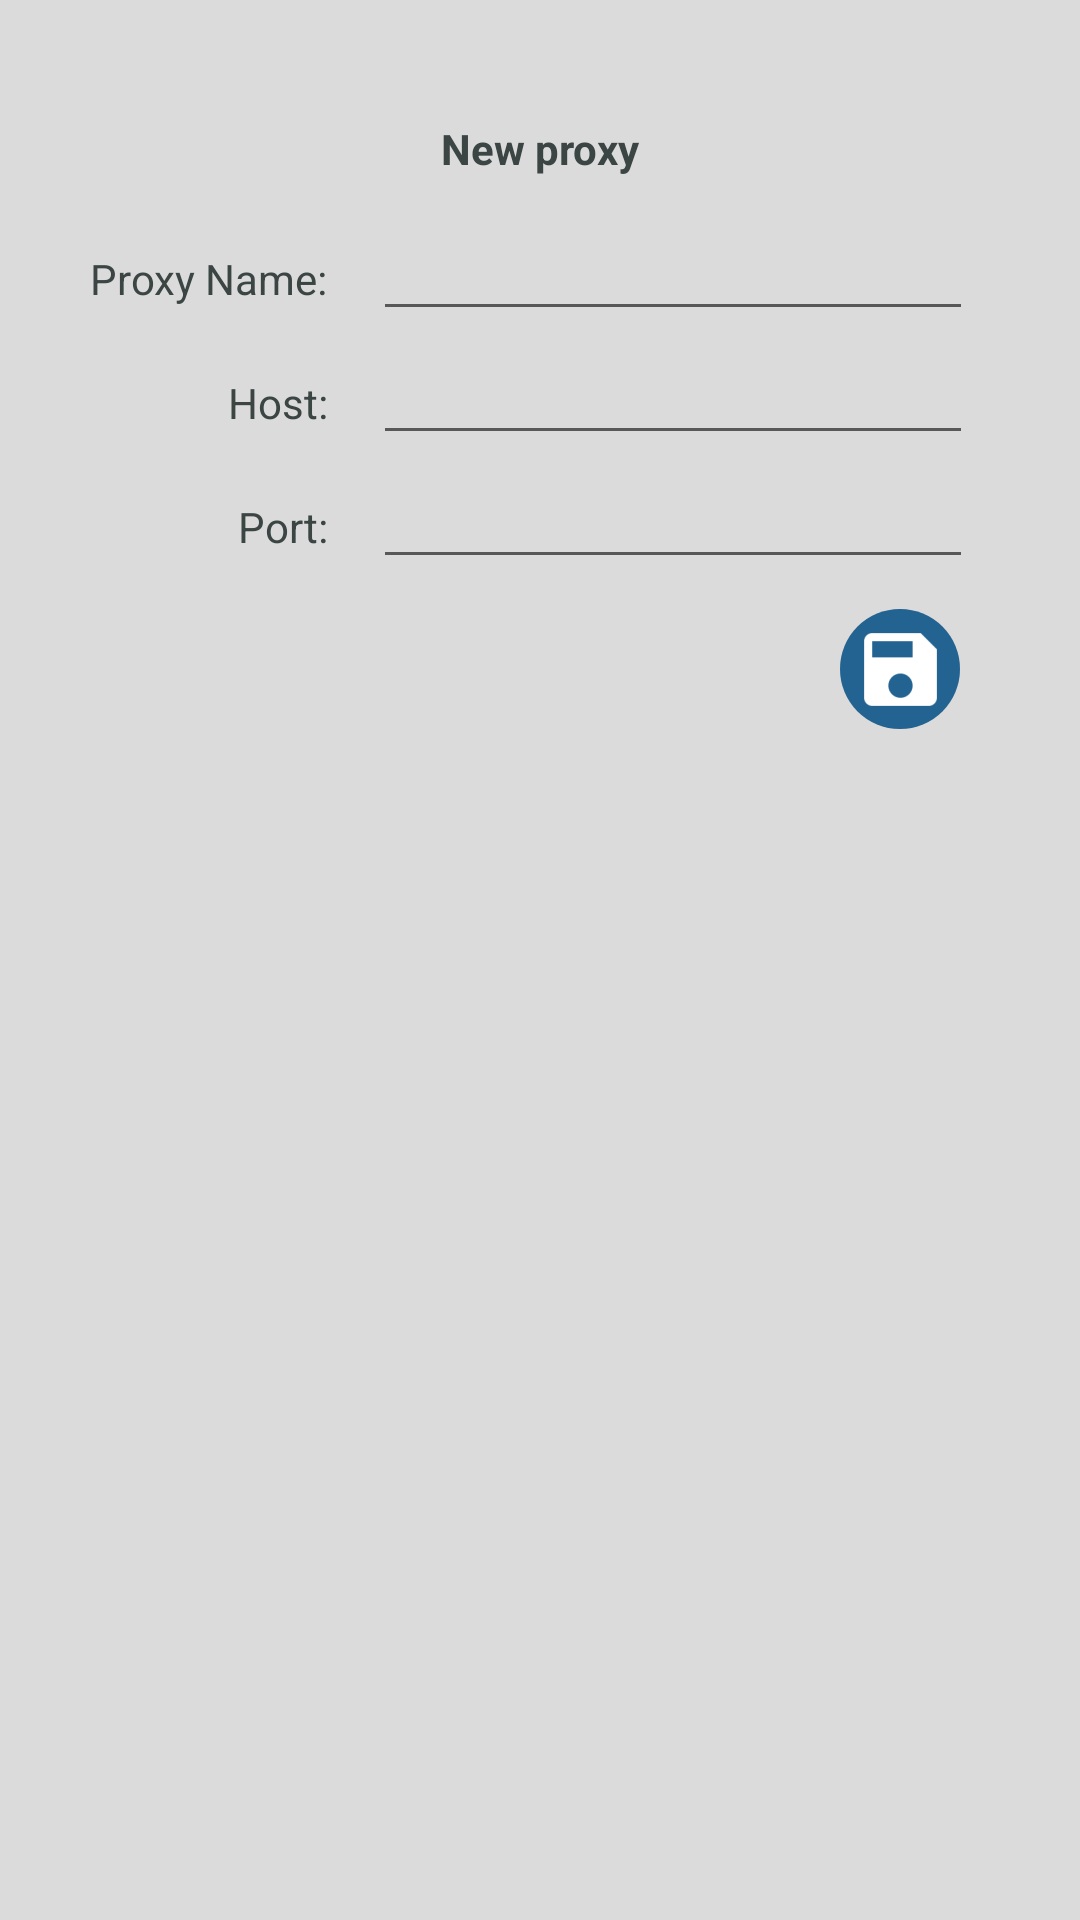

Point at icon controls on the screen. Image size 1080px x 1920px, points as (x=x, y=y).
save: (x=900, y=669)
